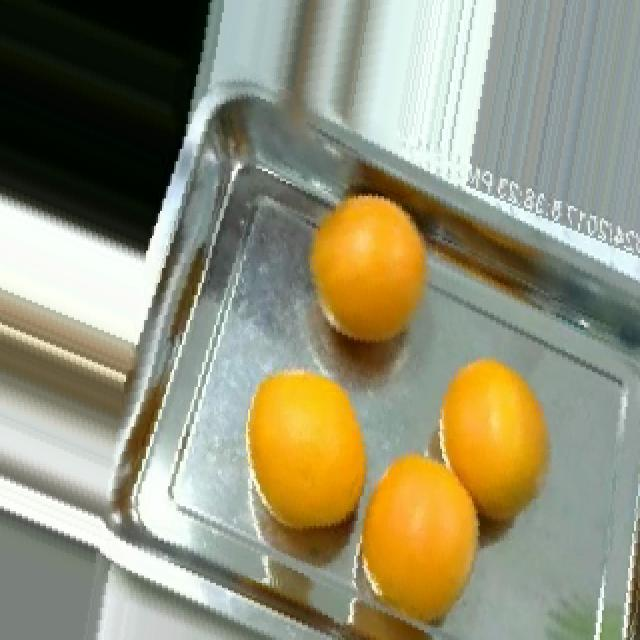Fruit: (284, 173, 446, 380), (224, 342, 380, 556), (356, 429, 498, 640), (420, 340, 570, 538)
